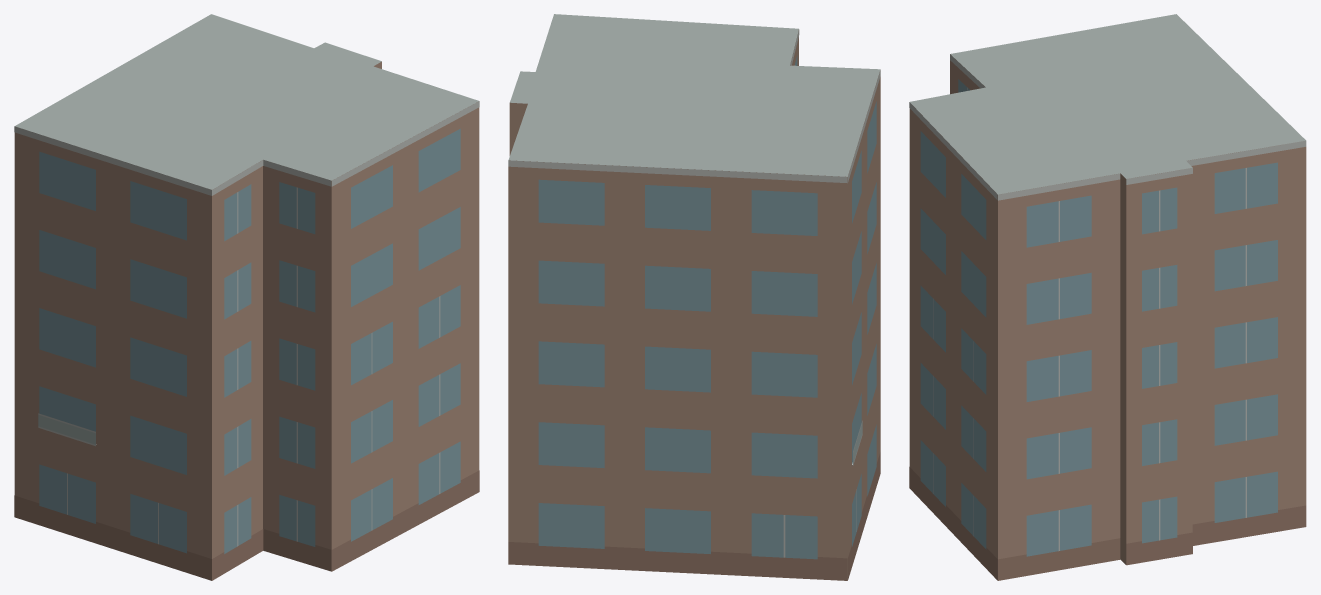
The model's file is survey-upis-32852048.glb.
3 views of the same model, side by side, from view 1: azimuth 30°, elevation 25°; view 2: azimuth 150°, elevation 25°; view 3: azimuth 270°, elevation 25° (orthographic). The views are drawn at different scales.
Visible parts, largest first — view 1: survey-upis-32852048.tmp; view 2: survey-upis-32852048.tmp; view 3: survey-upis-32852048.tmp.
Boxes of the visible parts, bbox=[...] form: survey-upis-32852048.tmp: bbox=[14, 14, 479, 580]; survey-upis-32852048.tmp: bbox=[508, 14, 880, 580]; survey-upis-32852048.tmp: bbox=[909, 14, 1306, 580].
Bounding box in the file's own units: 15.6 × 15.55 × 14.49.
